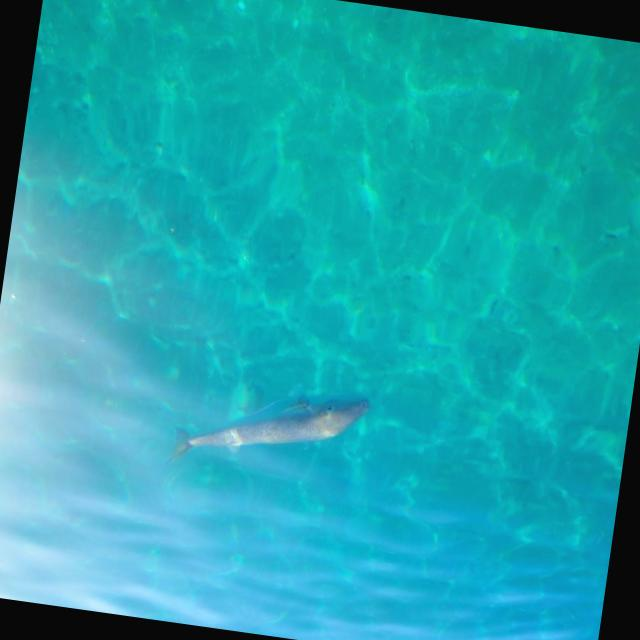Balon Baligi: (163, 368, 371, 492)
